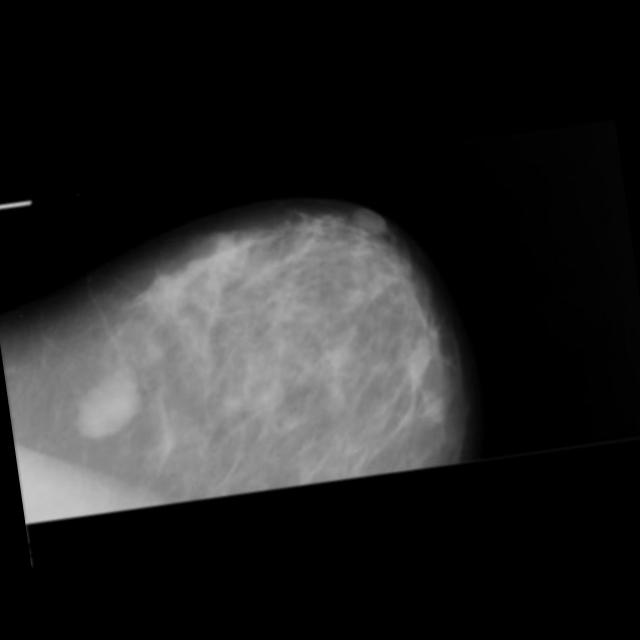CIRC: (62, 354, 158, 449)
